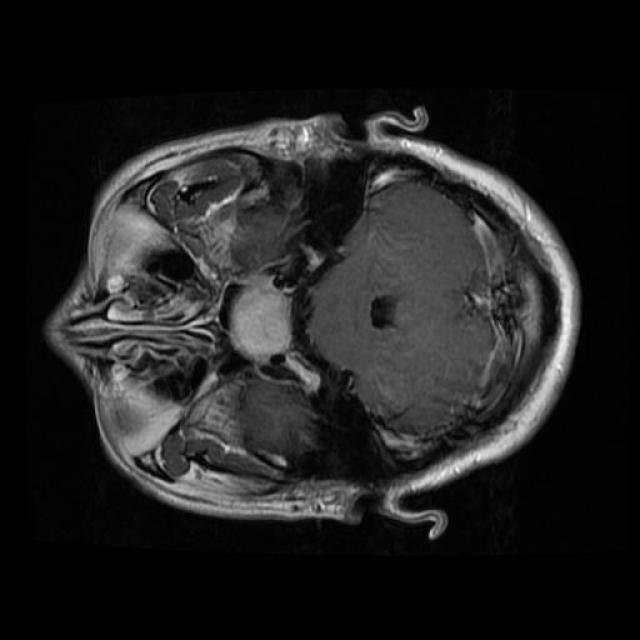Pituitary: (218, 264, 351, 394)
